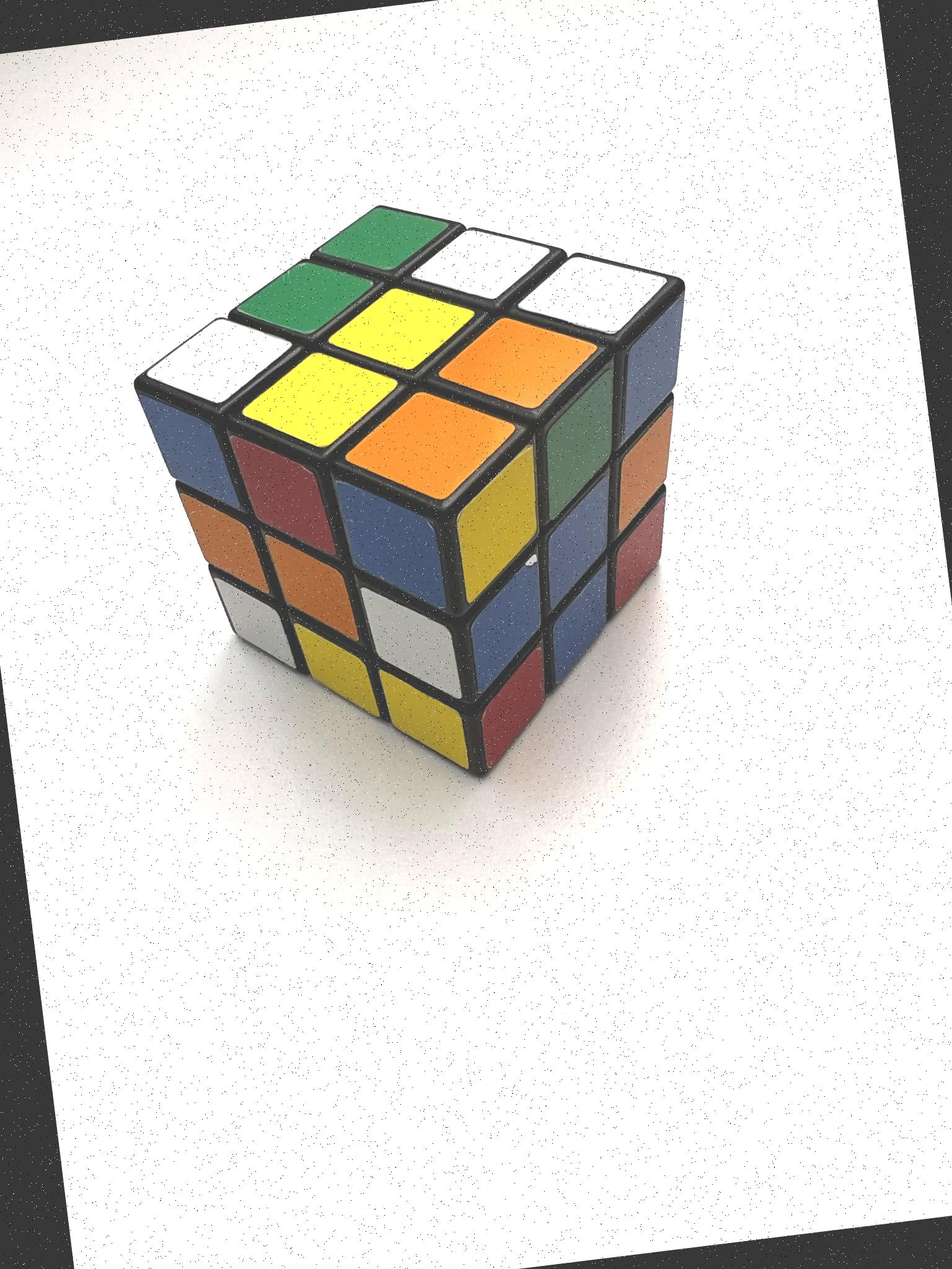rubiks_cube: (139, 206, 685, 768)
